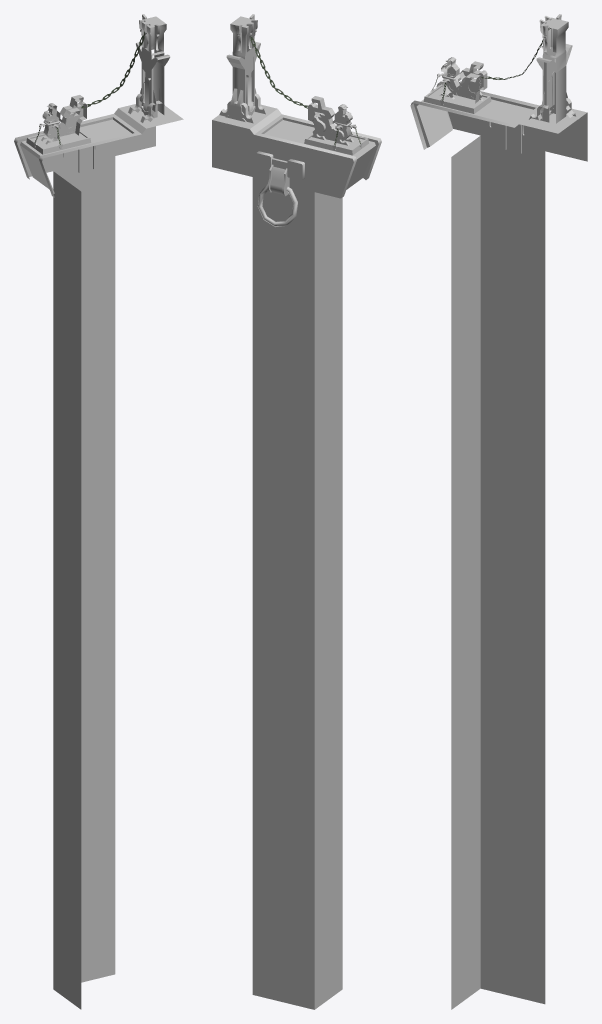
The model's file is Ma1_B_jianheshou_1.FBX.
3 views of the same model, side by side, from view 1: azimuth 30°, elevation 25°; view 2: azimuth 150°, elevation 25°; view 3: azimuth 330°, elevation 25° (orthographic). The views are drawn at different scales.
Visible parts, largest first — view 1: Ma1_B_jianheshou_1; view 2: Ma1_B_jianheshou_1; view 3: Ma1_B_jianheshou_1.
Part boxes in pixels (bbox=[...]): Ma1_B_jianheshou_1: bbox=[14, 14, 183, 1009]; Ma1_B_jianheshou_1: bbox=[212, 14, 381, 1009]; Ma1_B_jianheshou_1: bbox=[410, 14, 587, 1009].
Bounding box in the file's own units: 1142 × 7380 × 497.
